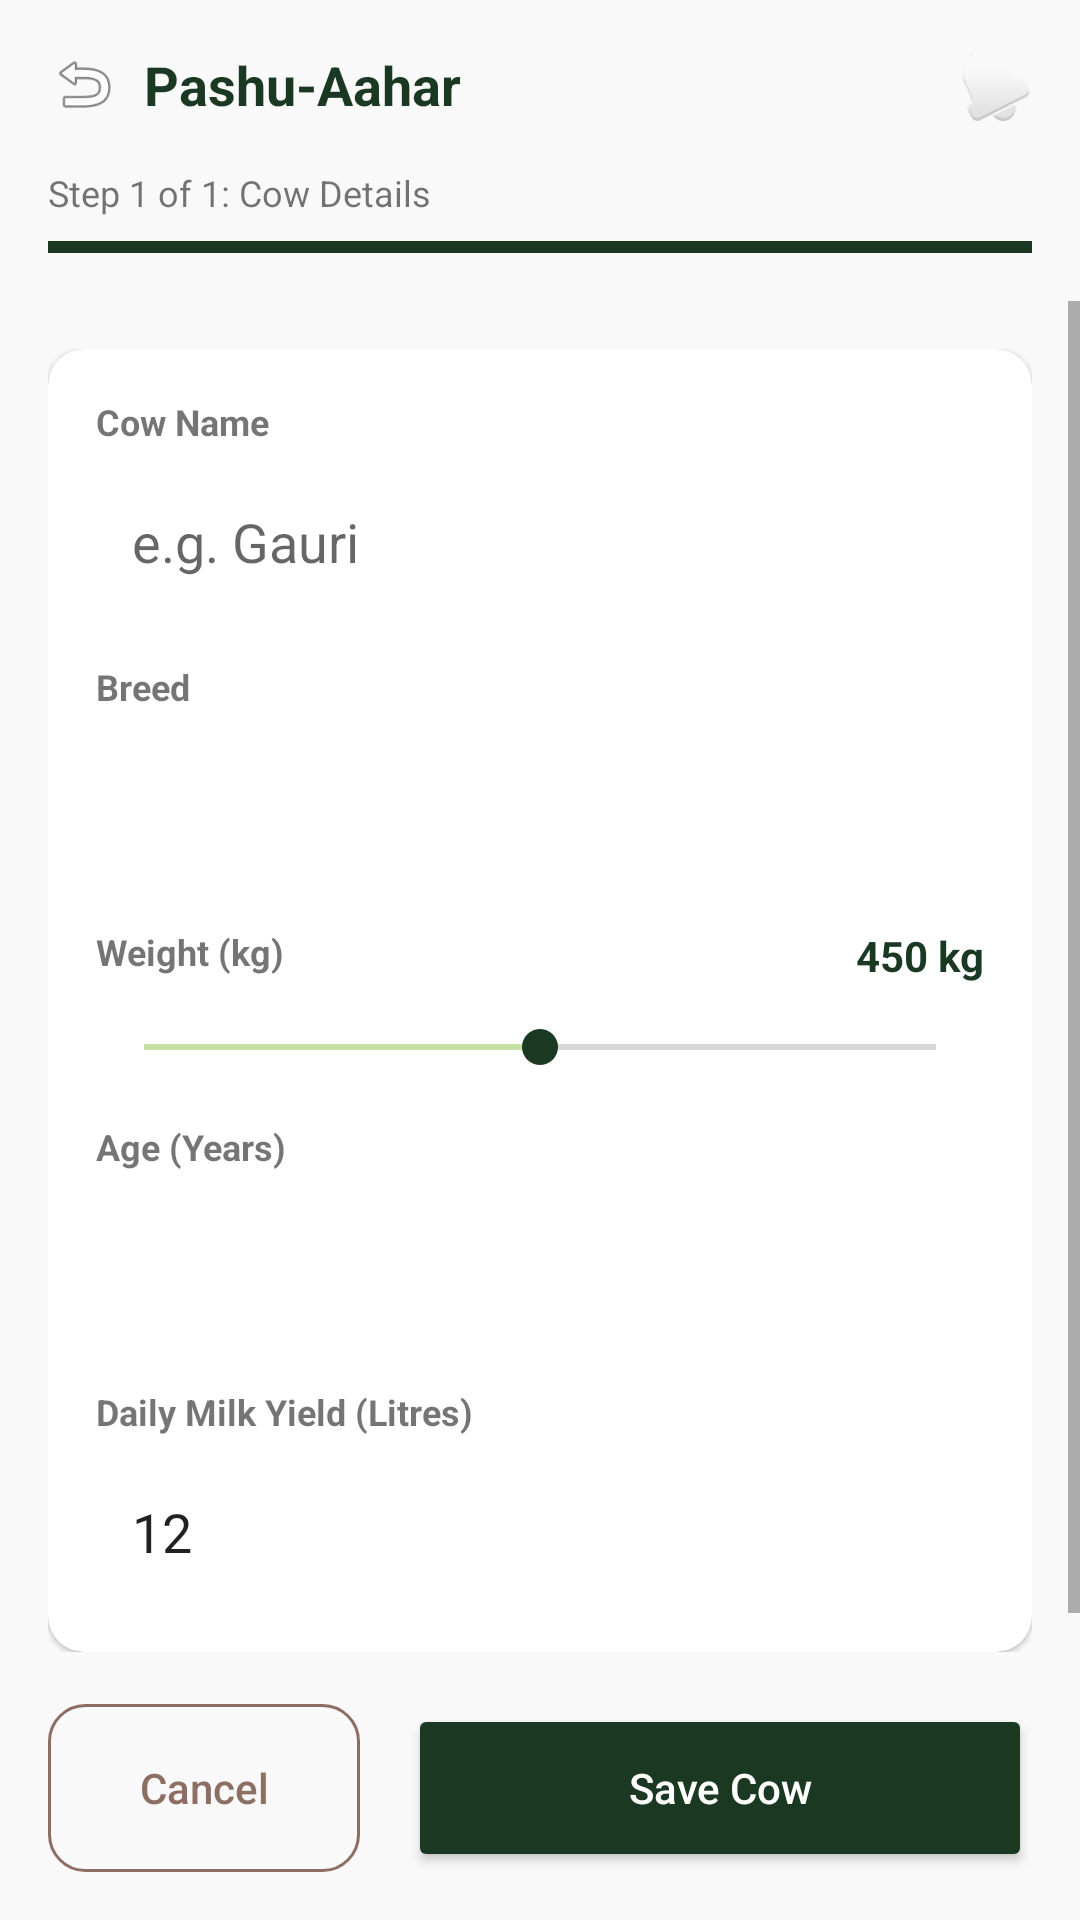

Named icons in this screenshot (1080×1920) and their centers, point (x, y):
revert: point (85, 84)
